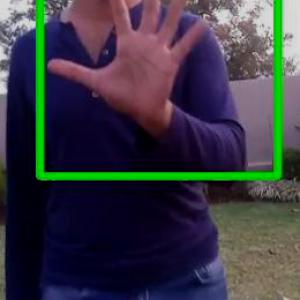follow_hand: (42, 0, 215, 121)
